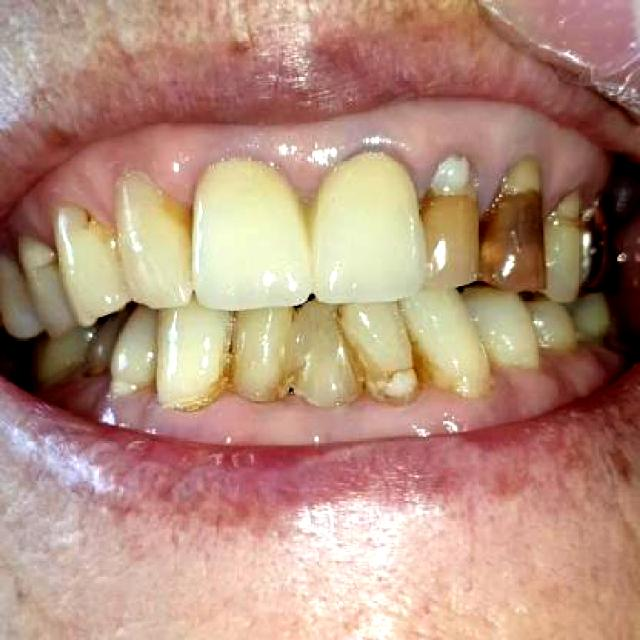Plaque: (479, 189, 546, 288), (63, 199, 105, 236)
